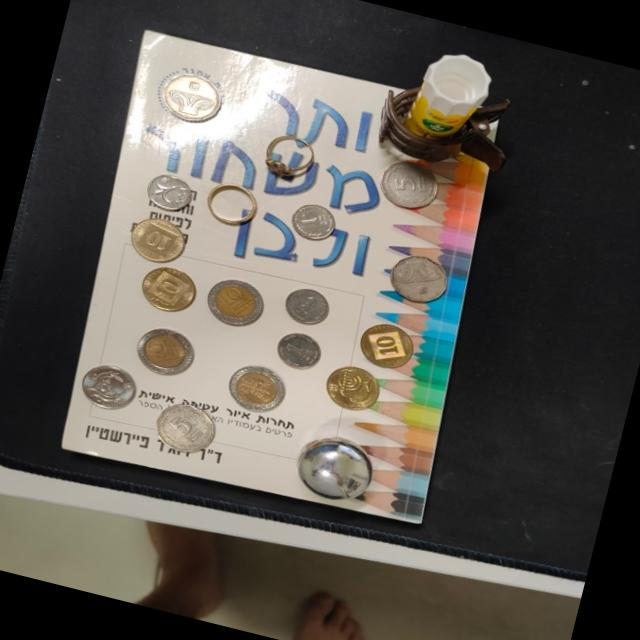1-shekel: (138, 169, 196, 218), (272, 328, 328, 377), (288, 200, 343, 246), (286, 283, 336, 328)
10-shekel: (221, 358, 292, 423), (200, 273, 268, 333), (130, 322, 197, 381)
2-shekel: (74, 358, 142, 416)
5-shekel: (380, 247, 452, 310), (156, 66, 223, 130), (378, 155, 446, 218), (150, 396, 213, 454)
